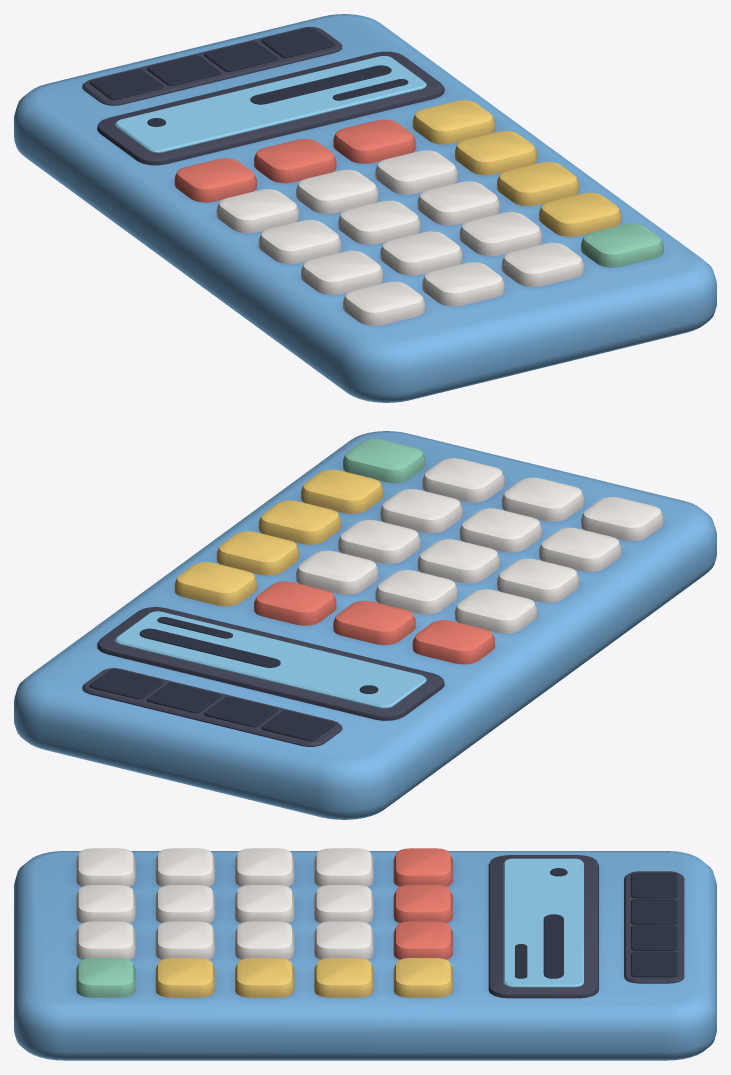
Rendered from calculator.glb.
The picture shows the model from 3 angles, top to bottom: view 1: azimuth 30°, elevation 25°; view 2: azimuth 150°, elevation 25°; view 3: azimuth 270°, elevation 25°; orthographic projection. The views are drawn at different scales.
Visible parts, largest first — view 1: calculator_body, calculator_display_glass; view 2: calculator_body, calculator_display_glass; view 3: calculator_body, calculator_display_glass.
Boxes of the visible parts, bbox=[...] form: calculator_body: bbox=[14, 14, 716, 402]; calculator_display_glass: bbox=[89, 27, 426, 152]; calculator_body: bbox=[14, 431, 716, 819]; calculator_display_glass: bbox=[89, 611, 426, 741]; calculator_body: bbox=[14, 848, 716, 1060]; calculator_display_glass: bbox=[503, 858, 677, 987].
Size of the model in its own units: 0.08 by 0.0157 by 0.14.
Materials: 4 (1 with a texture image).
